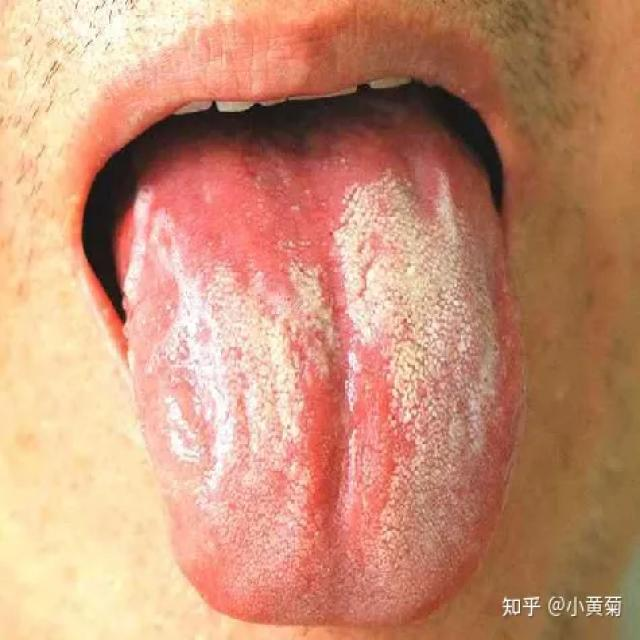tongue: (119, 128, 535, 636)
